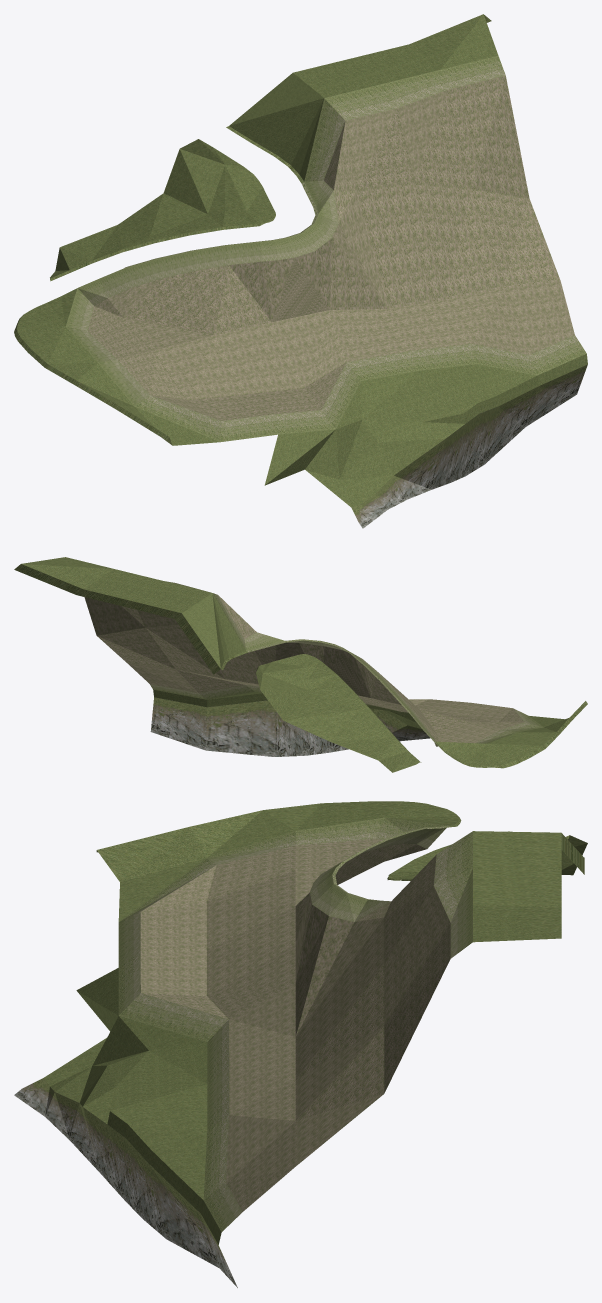
File: sfshill10.obj
The picture shows the model from 3 angles, top to bottom: view 1: azimuth 30°, elevation 25°; view 2: azimuth 150°, elevation 25°; view 3: azimuth 270°, elevation 25°; orthographic projection. The views are drawn at different scales.
Visible parts, largest first — view 1: sfshill10; view 2: sfshill10; view 3: sfshill10.
Boxes of the visible parts, left/top/right/bottom form: sfshill10: left=14, top=14, right=587, bottom=528; sfshill10: left=14, top=557, right=587, bottom=772; sfshill10: left=14, top=801, right=587, bottom=1287.
Bounding box in the file's own units: 289 × 156 × 204.
Materials: 4 (4 with a texture image).
